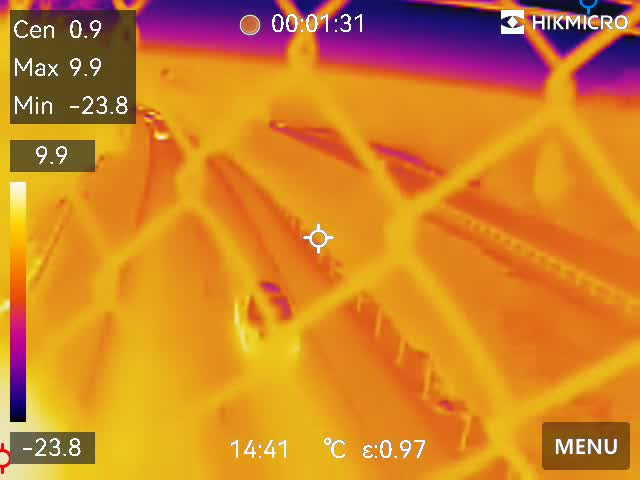vehicle: (227, 279, 300, 370), (149, 122, 171, 142)
